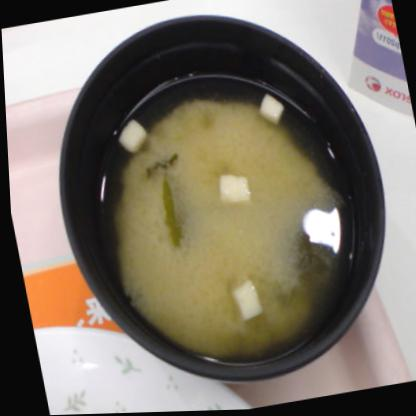miso soup: (65, 33, 393, 377)
